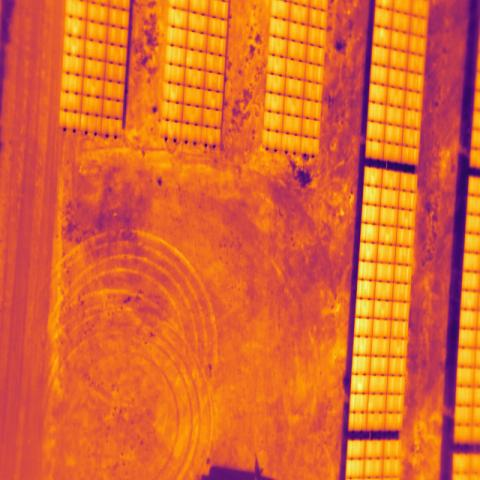fault: (351, 375, 370, 393)
